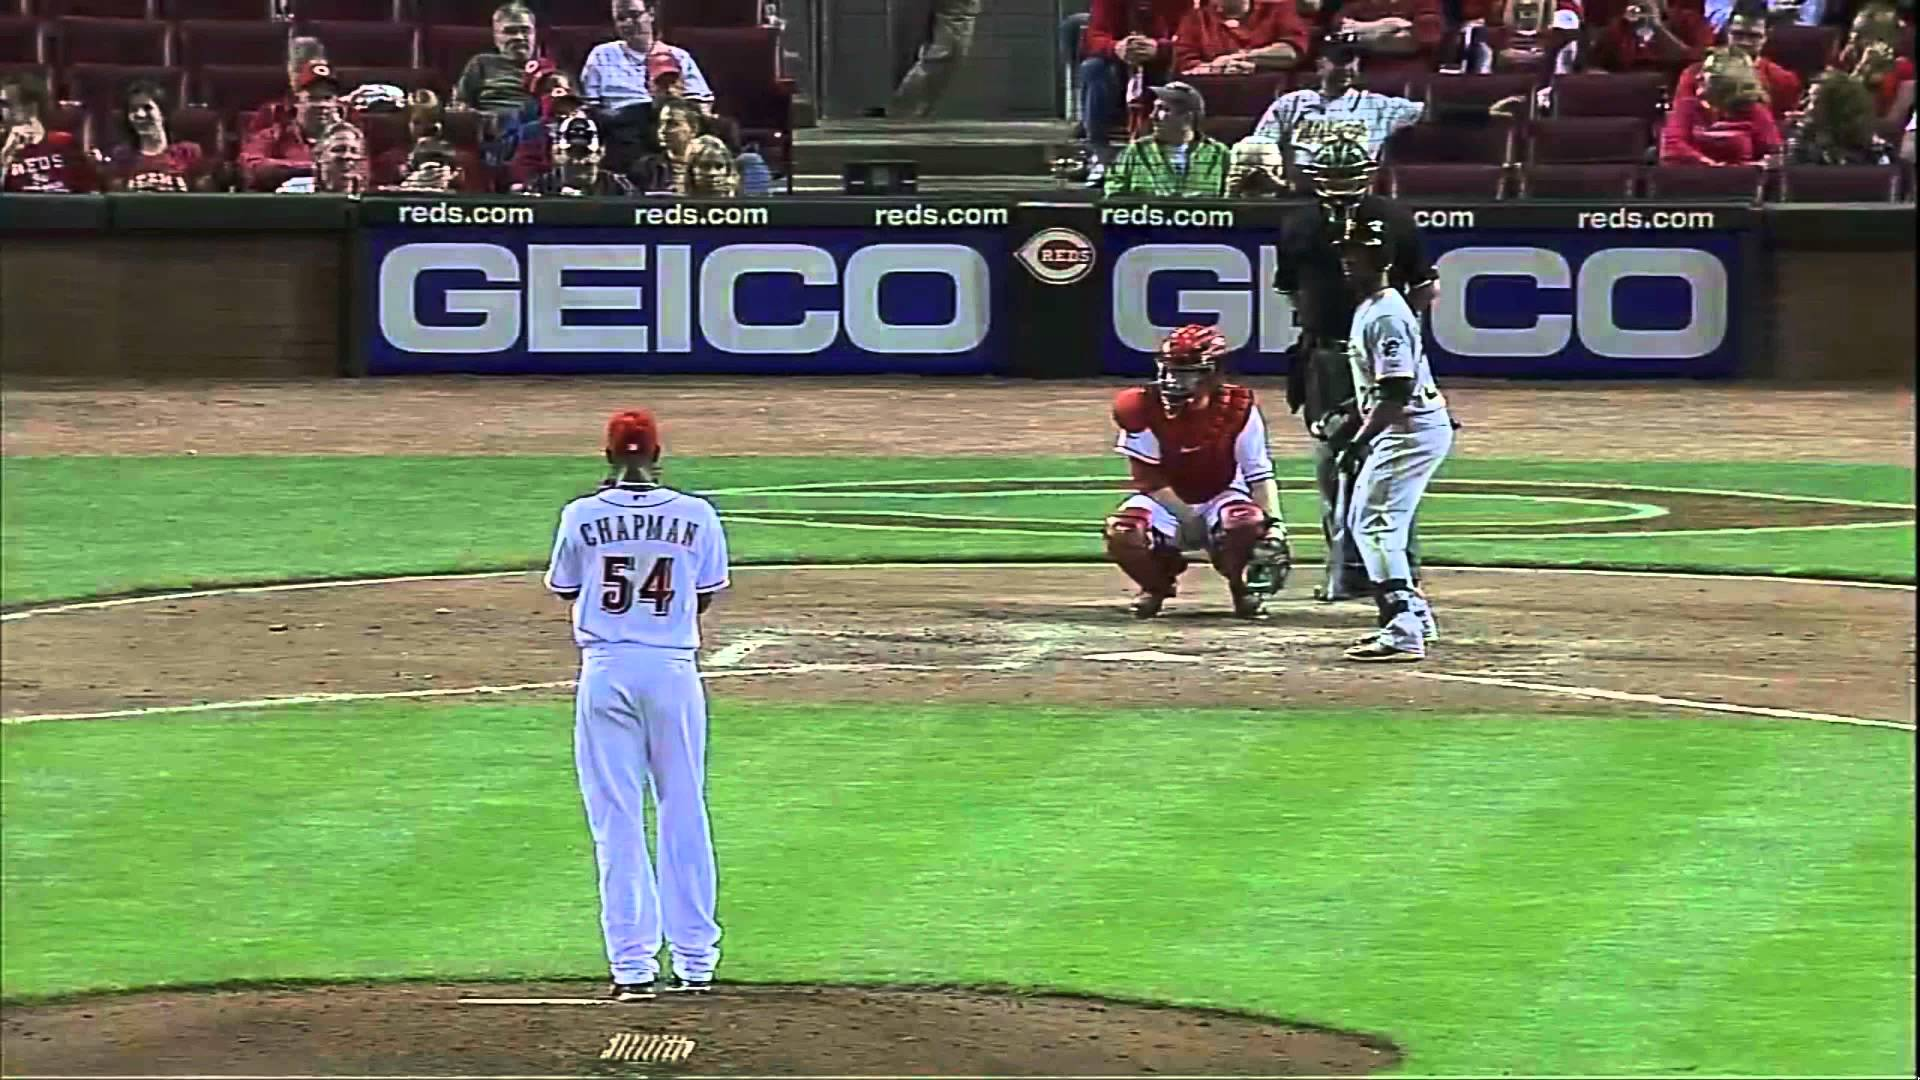geico: (1110, 229, 1733, 382), (371, 225, 1004, 368)
